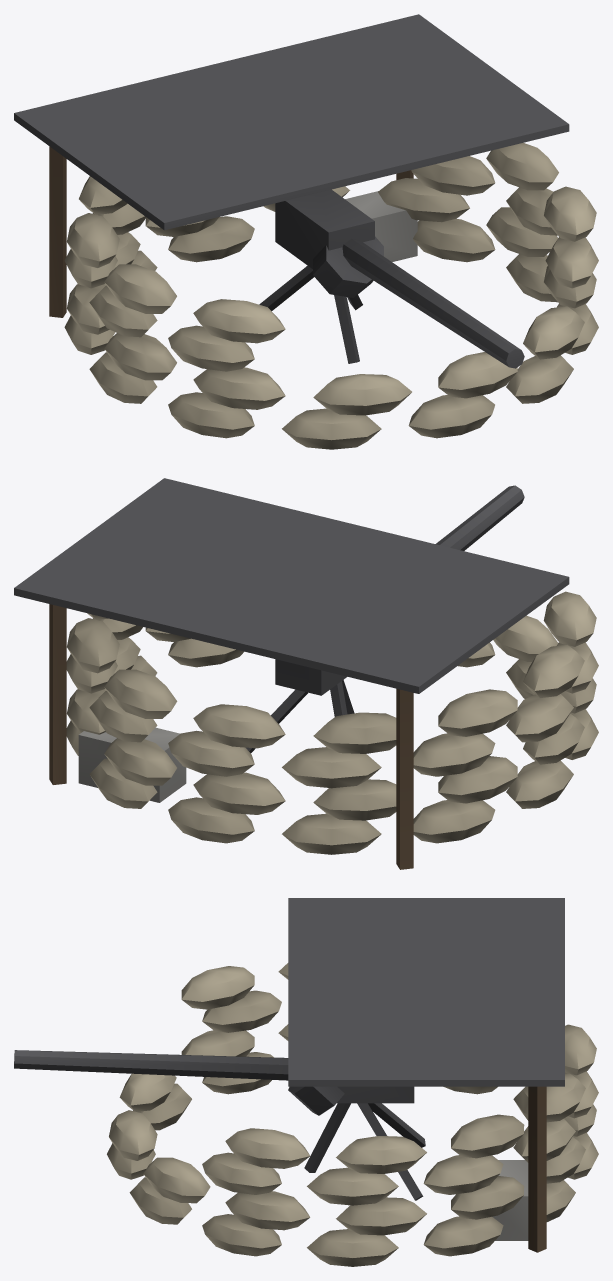
Rendered from post_modern.glb.
The picture shows the model from 3 angles, top to bottom: view 1: azimuth 30°, elevation 25°; view 2: azimuth 150°, elevation 25°; view 3: azimuth 270°, elevation 25°; orthographic projection. The views are drawn at different scales.
Parts seen in each view (by area): view 1: Body; view 2: Body; view 3: Body.
Part boxes in pixels (x1,y1,x2,y2): Body: [14, 14, 598, 449]; Body: [14, 478, 598, 869]; Body: [14, 898, 598, 1266].
Bounding box in the file's own units: 0.8 × 0.3331 × 0.9506.
